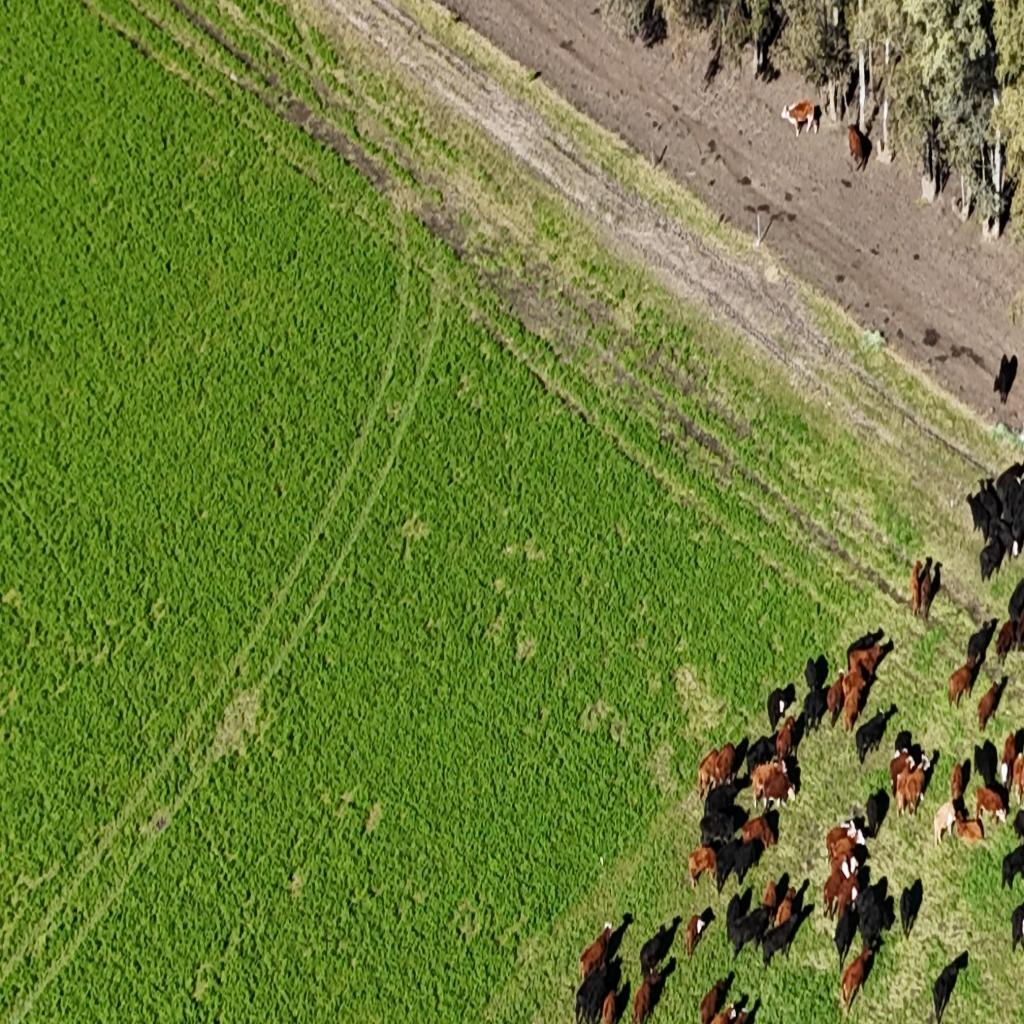cow: (929, 949, 969, 1024), (838, 943, 875, 1020), (575, 921, 614, 982), (730, 901, 770, 957), (855, 878, 885, 950), (761, 908, 799, 964), (852, 710, 886, 762), (699, 806, 738, 850), (698, 973, 731, 1024), (763, 769, 797, 818), (948, 656, 980, 708), (632, 969, 662, 1024), (977, 674, 1006, 730), (846, 629, 886, 669), (966, 619, 998, 668), (996, 464, 1024, 519), (974, 785, 1008, 827), (687, 844, 717, 891), (908, 755, 930, 819), (864, 786, 890, 840), (823, 859, 850, 911), (826, 822, 862, 861), (900, 877, 922, 940), (767, 684, 795, 732), (780, 99, 818, 134), (993, 353, 1018, 406), (979, 535, 1006, 584), (801, 688, 826, 740), (968, 486, 994, 536), (847, 121, 872, 173), (641, 922, 667, 971), (896, 753, 916, 815), (752, 757, 788, 791), (1001, 841, 1024, 892), (715, 736, 740, 782), (825, 674, 848, 724), (744, 814, 776, 848), (735, 842, 761, 883), (746, 735, 777, 766), (804, 655, 828, 694), (685, 914, 706, 956), (950, 760, 966, 806), (1009, 574, 1024, 622), (910, 558, 922, 612), (1015, 898, 1024, 953), (922, 565, 931, 617), (1016, 753, 1024, 803)
